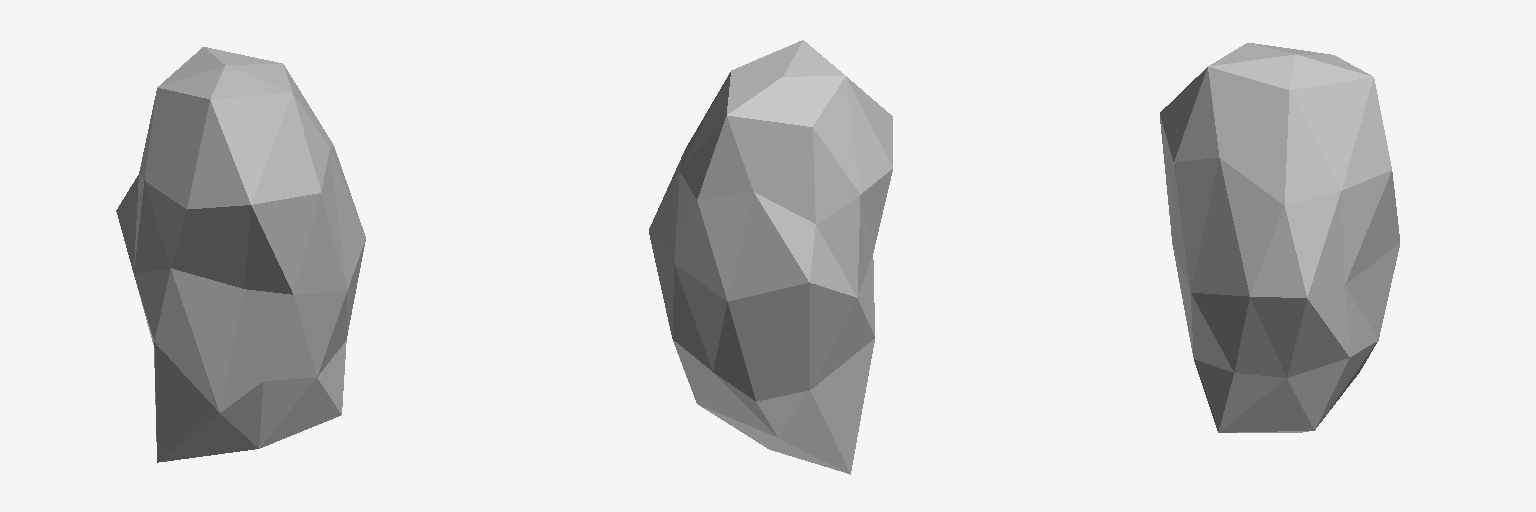
File: bush_5.obj
3 renders of one model, left to right at view 1: azimuth 30°, elevation 25°; view 2: azimuth 150°, elevation 25°; view 3: azimuth 270°, elevation 25°, orthographic.
Visible parts, largest first — view 1: bush_5; view 2: bush_5; view 3: bush_5.
Boxes of the visible parts, box(x1,y1,x2,y2) form: bush_5: box(116, 47, 365, 462); bush_5: box(649, 40, 892, 474); bush_5: box(1160, 43, 1399, 432).
Bounding box in the file's own units: 0.6684 × 1.15 × 0.6587.